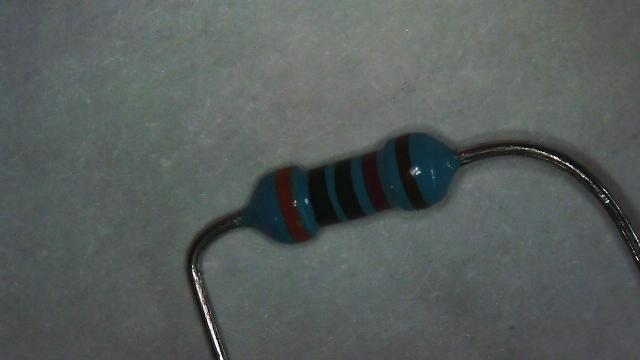black: (334, 160, 357, 219), (310, 169, 329, 221)
brown: (396, 132, 418, 207)
orange: (275, 168, 303, 242)
red: (362, 152, 390, 211)
resistor: (216, 93, 480, 277)
